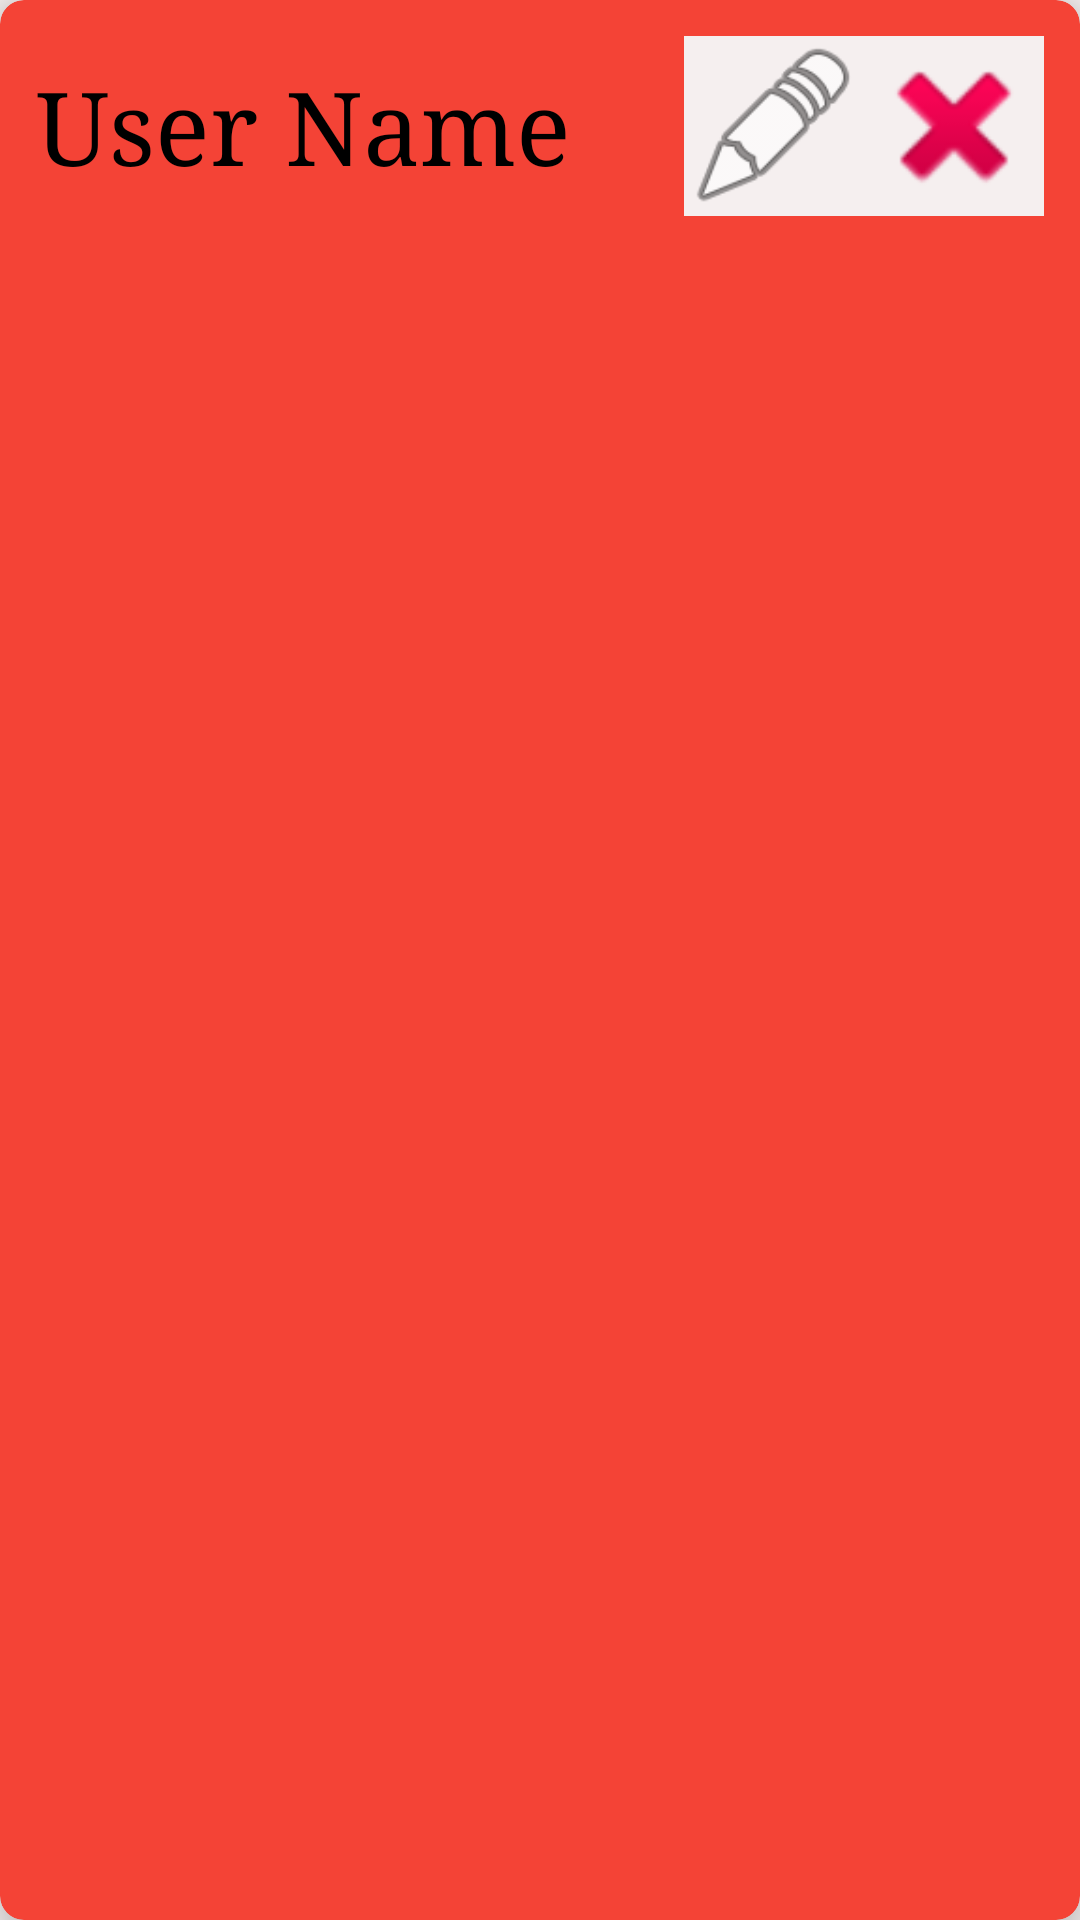

Screen size 1080px x 1920px. Icon name, then its box in pixels as [x1, y1, x2, y2]:
delete: [864, 36, 1044, 216]
edit: [684, 36, 864, 216]
